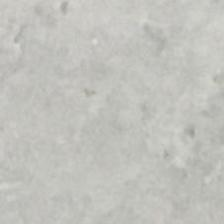Non_Crack: (22, 29, 198, 192)
